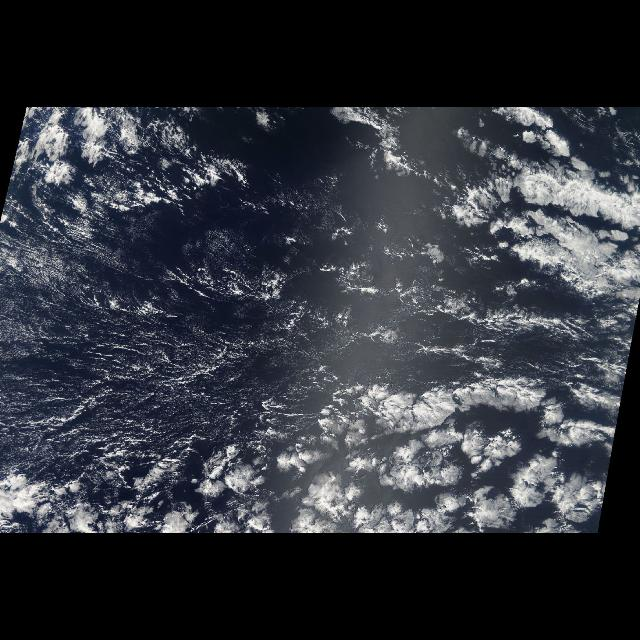Flower: (282, 385, 604, 533)
Sugar: (0, 238, 502, 452)
